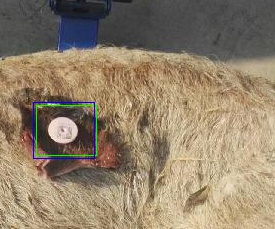text: (36, 105, 96, 155)
